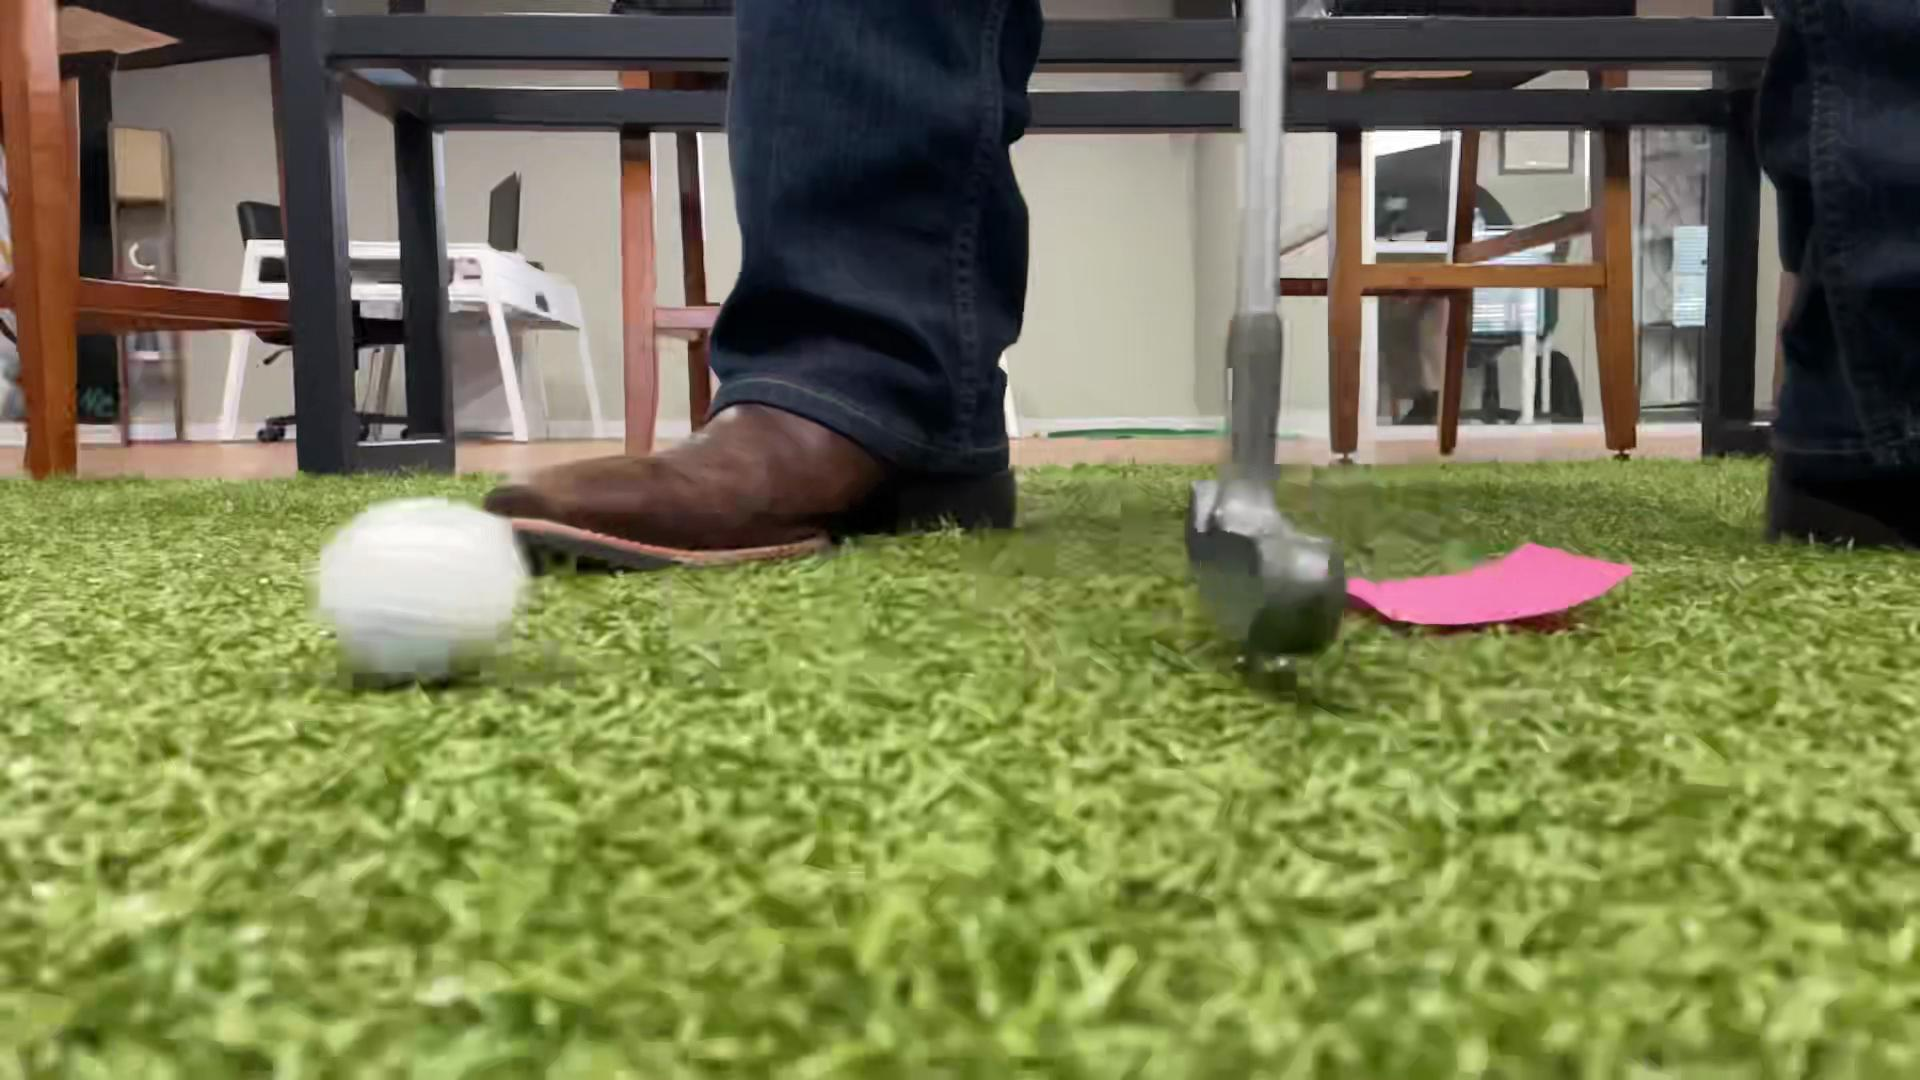golfball: (319, 499, 522, 676)
